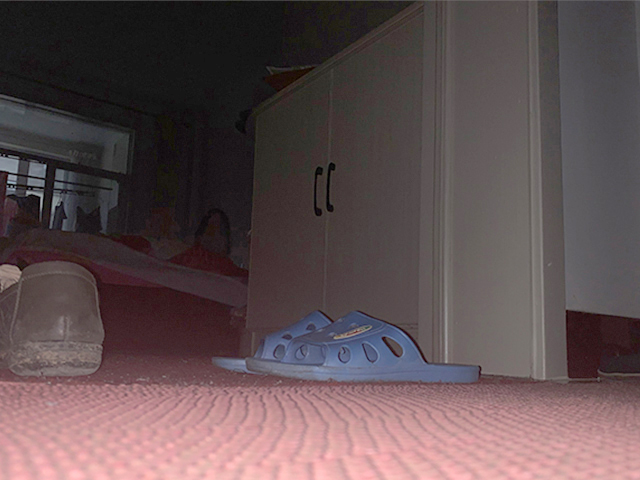cabinet: (239, 1, 567, 378)
carpet: (1, 359, 640, 480)
slippers: (242, 312, 481, 383)
